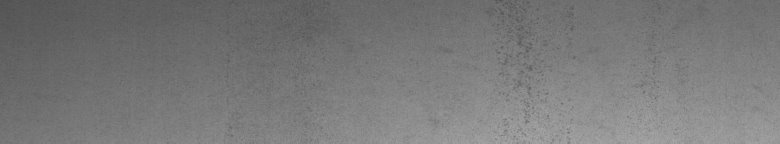ib: (444, 5, 570, 136)
